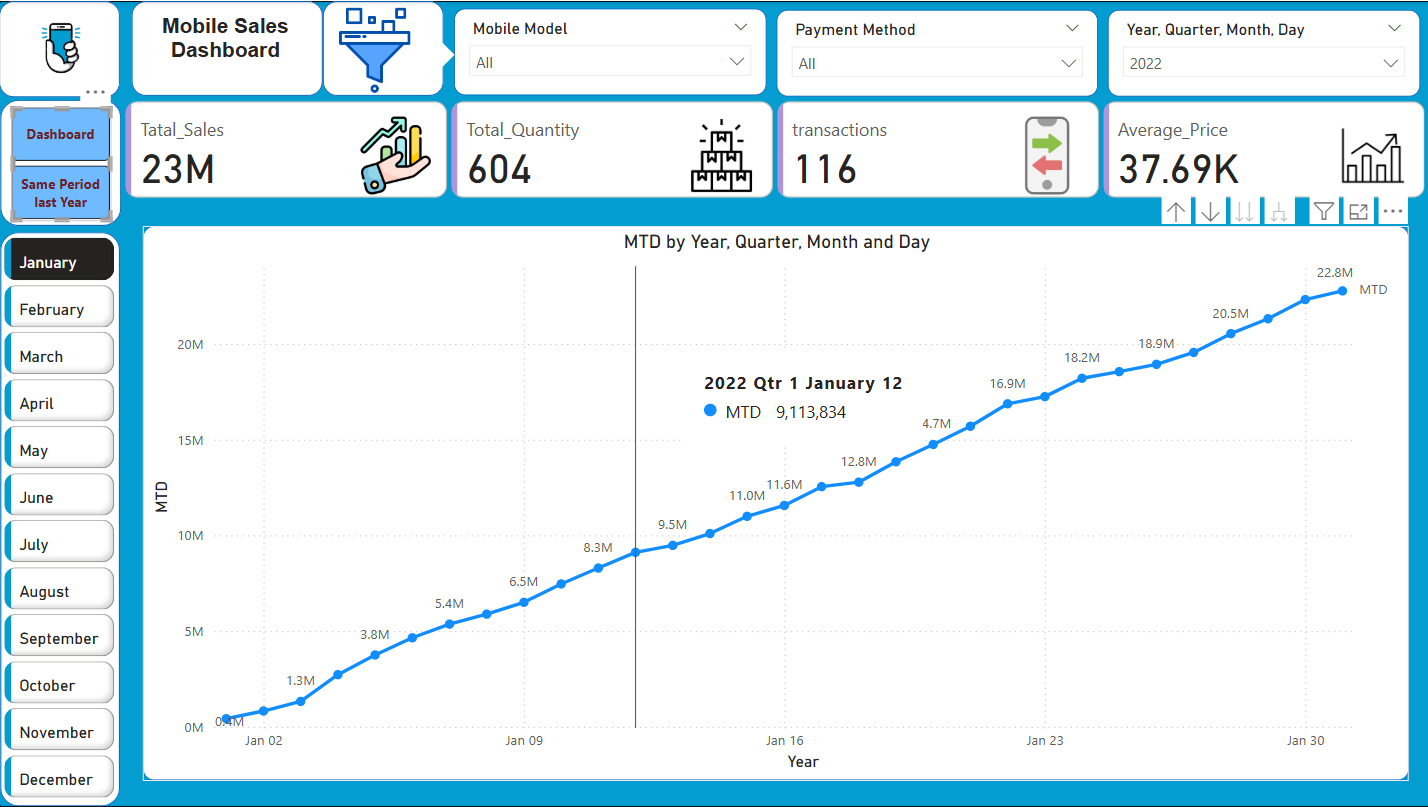

The dashboard page shown, as its layout file describes it:
{"tool":"powerbi","page":{"name":"MTD Report","canvas":[1280,720],"ordinal":1},"visuals":[{"type":"shape","box":[0,0,108.1,86],"z":0},{"type":"image","box":[18.6,8.1,72.1,72.1],"z":1000},{"type":"shape","box":[1.2,88.4,108.1,112.8],"z":2000},{"type":"shape","box":[1.2,207,107,512.8],"z":3000},{"type":"advancedSlicerVisual","fields":{"Values":["custom_calender.Date.Variation.Date Hierarchy.Month"]},"box":[0,207,108.1,512.8],"z":4000},{"type":"cardVisual","fields":{"Data":["Mobile_Sales_Data.Tatal_Sales","Mobile_Sales_Data.Total_Quantity","Mobile_Sales_Data.transactions","Mobile_Sales_Data.Average_Price"]},"box":[108.1,84.9,1172.1,96.5],"z":5000},{"type":"slicer","fields":{"Values":["Mobile_Sales_Data.Mobile Model"]},"box":[407,7,279.1,77.9],"z":6000},{"type":"slicer","fields":{"Values":["Mobile_Sales_Data.Payment Method"]},"box":[694.2,8.1,287.2,77.9],"z":7000},{"type":"slicer","fields":{"Values":["custom_calender.Date.Variation.Date Hierarchy.Year","custom_calender.Date.Variation.Date Hierarchy.Quarter","custom_calender.Date.Variation.Date Hierarchy.Month","custom_calender.Date.Variation.Date Hierarchy.Day"]},"box":[990.7,8.1,279.1,77.9],"z":8000},{"type":"shape","box":[289.5,0,108.1,84.9],"z":9000},{"type":"image","box":[289.5,0,93,88.4],"z":10000},{"type":"shape","box":[361.6,33.7,45.3,29.1],"z":11000},{"type":"shape","box":[118.6,0,170.9,84.9],"z":12000},{"type":"textbox","box":[127.9,7,147.7,73.3],"z":13000},{"type":"lineChart","fields":{"Y":["Mobile_Sales_Data.MTD"],"Category":["custom_calender.Date.Variation.Date Hierarchy.Year","custom_calender.Date.Variation.Date Hierarchy.Quarter","custom_calender.Date.Variation.Date Hierarchy.Month","custom_calender.Date.Variation.Date Hierarchy.Day"]},"box":[127.9,201.2,1131.4,495.4],"z":14000},{"type":"pageNavigator","box":[11.6,95.3,88.4,101.2],"z":14001}]}

Visuals, with their boxes in screenshot pixels (x1, y1, x2, y2):
shape: bbox=[0, 0, 119, 95]
image: bbox=[20, 9, 100, 88]
shape: bbox=[1, 97, 120, 221]
shape: bbox=[1, 228, 119, 792]
advancedSlicerVisual - custom_calender.Date.Variation.Date Hierarchy.Month: bbox=[0, 228, 119, 792]
cardVisual - Mobile_Sales_Data.Tatal_Sales x Mobile_Sales_Data.Total_Quantity: bbox=[119, 93, 1408, 200]
slicer - Mobile_Sales_Data.Mobile Model: bbox=[448, 8, 755, 93]
slicer - Mobile_Sales_Data.Payment Method: bbox=[764, 9, 1080, 95]
slicer - custom_calender.Date.Variation.Date Hierarchy.Year x custom_calender.Date.Variation.Date Hierarchy.Quarter: bbox=[1090, 9, 1397, 95]
shape: bbox=[319, 0, 437, 93]
image: bbox=[319, 0, 421, 97]
shape: bbox=[398, 37, 448, 69]
shape: bbox=[130, 0, 319, 93]
textbox: bbox=[141, 8, 303, 88]
lineChart - Mobile_Sales_Data.MTD x custom_calender.Date.Variation.Date Hierarchy.Year: bbox=[141, 221, 1385, 766]
pageNavigator: bbox=[13, 105, 110, 216]
